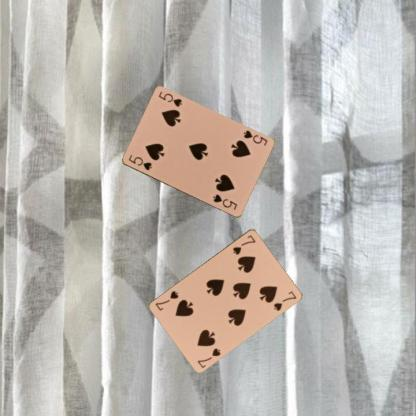5s: (240, 127, 269, 147), (126, 152, 153, 172)
7s: (195, 345, 222, 369), (230, 232, 256, 256)
